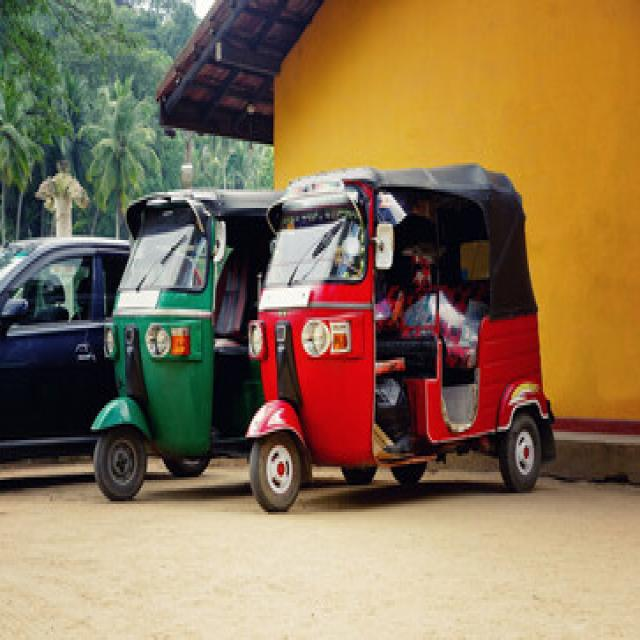car: (0, 237, 127, 461)
three wheeler: (249, 165, 552, 512), (92, 189, 277, 501)
